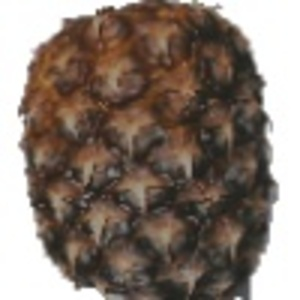abacaxi: (17, 2, 278, 291)
